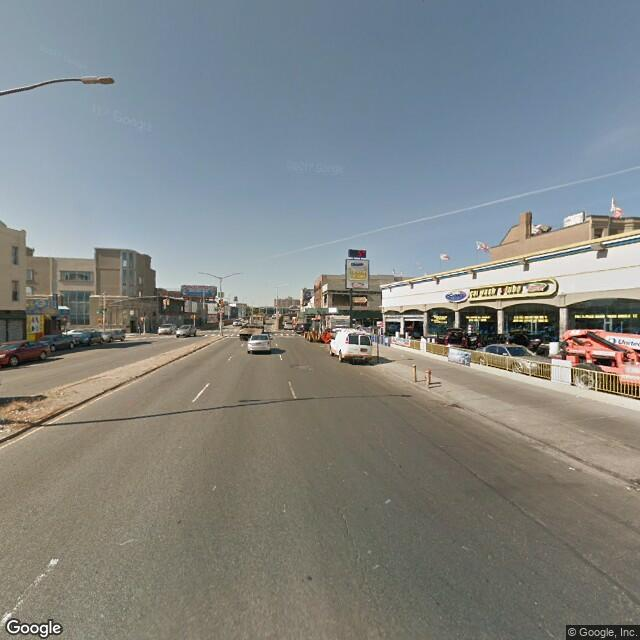litter: (625, 484, 640, 493), (570, 463, 574, 471)
